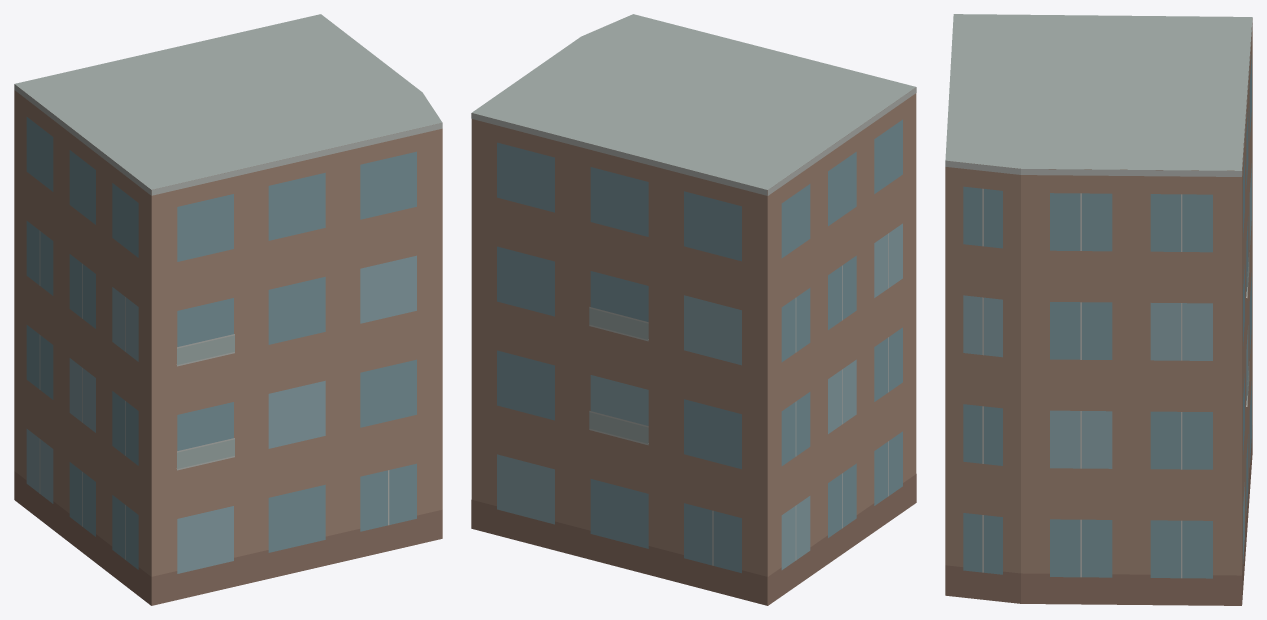
The model's file is survey-upis-32962643.glb.
3 renders of one model, left to right at view 1: azimuth 30°, elevation 25°; view 2: azimuth 150°, elevation 25°; view 3: azimuth 270°, elevation 25°, orthographic. The views are drawn at different scales.
Visible parts, largest first — view 1: survey-upis-32962643.tmp; view 2: survey-upis-32962643.tmp; view 3: survey-upis-32962643.tmp.
Part boxes in pixels (bbox=[...]): survey-upis-32962643.tmp: bbox=[14, 14, 442, 605]; survey-upis-32962643.tmp: bbox=[471, 14, 916, 605]; survey-upis-32962643.tmp: bbox=[945, 14, 1252, 605].
Bounding box in the file's own units: 13.23 × 17.1 × 10.95.
